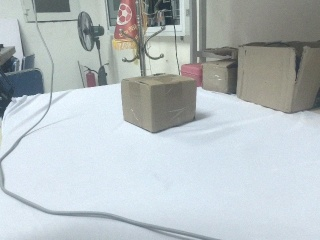box: (236, 41, 320, 114), (121, 73, 197, 133), (201, 52, 237, 95), (179, 59, 202, 83)
